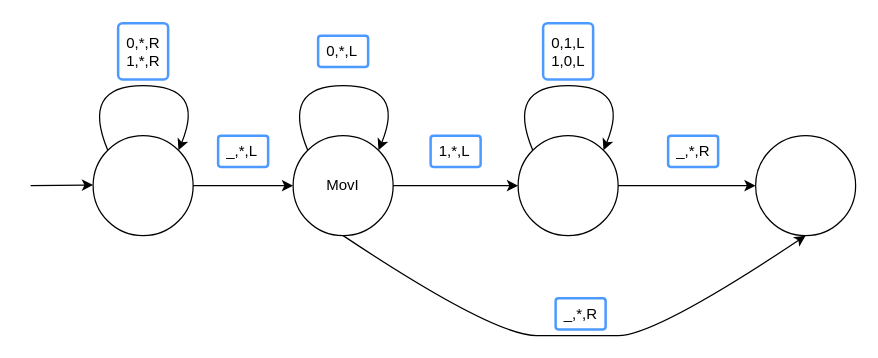
The diagram is 878 pixels wide and 358 high, and some of its shapes have lost their labels. Each missing label, with the centre of its shape:
"Halt" goes at point (805, 185).
"MovD" goes at point (142, 185).
"MovIc" goes at point (567, 185).
